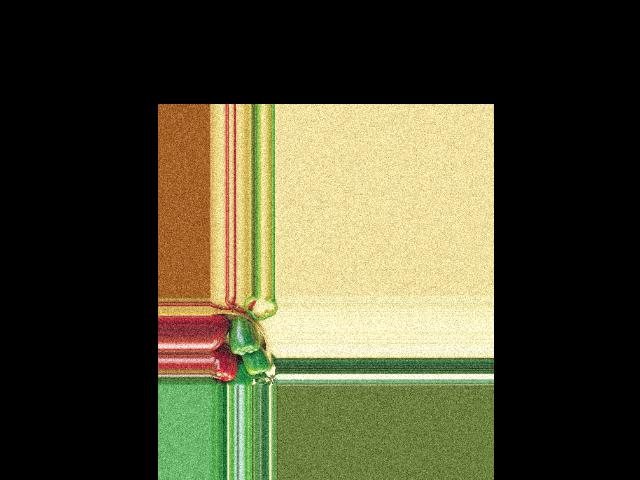bell_pepper: (211, 314, 227, 351)
